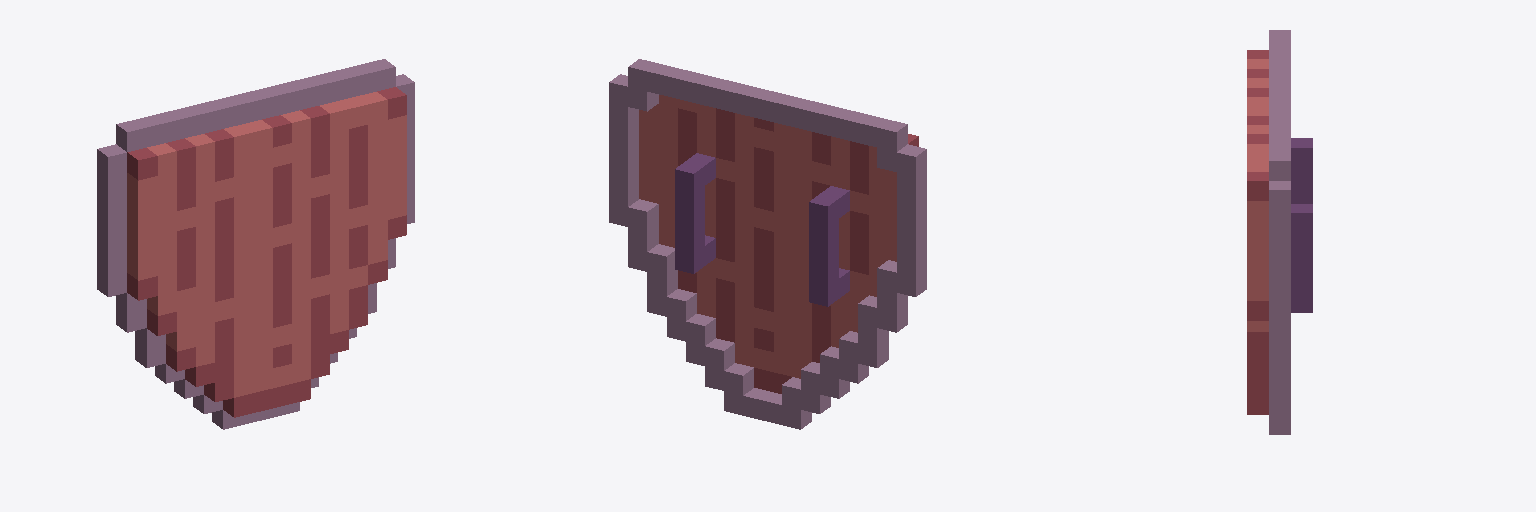
3 views of the same model, side by side, from view 1: azimuth 30°, elevation 25°; view 2: azimuth 150°, elevation 25°; view 3: azimuth 270°, elevation 25° (orthographic).
Visible parts, largest first — view 1: object 1; view 2: object 1; view 3: object 1.
Boxes of the visible parts, x1,y1,x2,y2 form: object 1: [97, 59, 414, 429]; object 1: [609, 59, 926, 429]; object 1: [1247, 30, 1312, 434].
Bounding box in the file's own units: 1.6 × 1.6 × 0.3.
Materials: 1 (1 with a texture image).